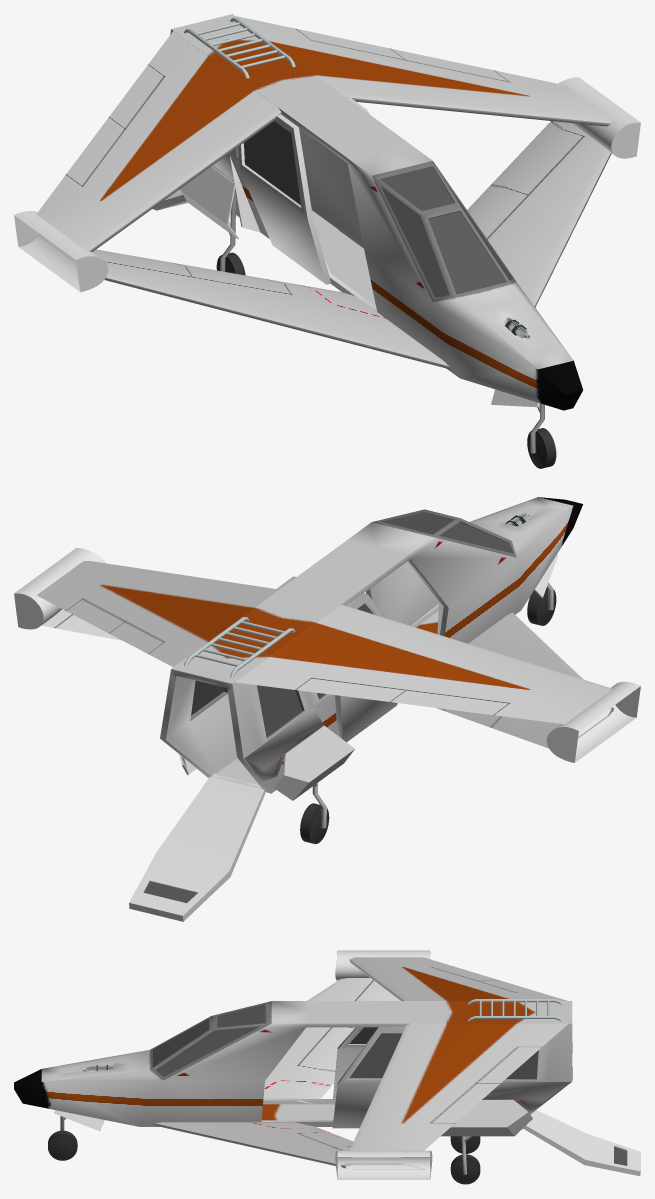
Rendered from Landed.fbx.
3 views of the same model, one above another, from view 1: azimuth 30°, elevation 25°; view 2: azimuth 150°, elevation 25°; view 3: azimuth 270°, elevation 25° (orthographic). The views are drawn at different scales.
Visible parts, largest first — view 1: Wheel back.005; view 2: Wheel back.005; view 3: Wheel back.005.
Boxes of the visible parts, bbox=[...] form: Wheel back.005: bbox=[14, 14, 640, 468]; Wheel back.005: bbox=[14, 497, 640, 921]; Wheel back.005: bbox=[14, 950, 640, 1184].
Bounding box in the file's own units: 2159 × 779 × 2770.
